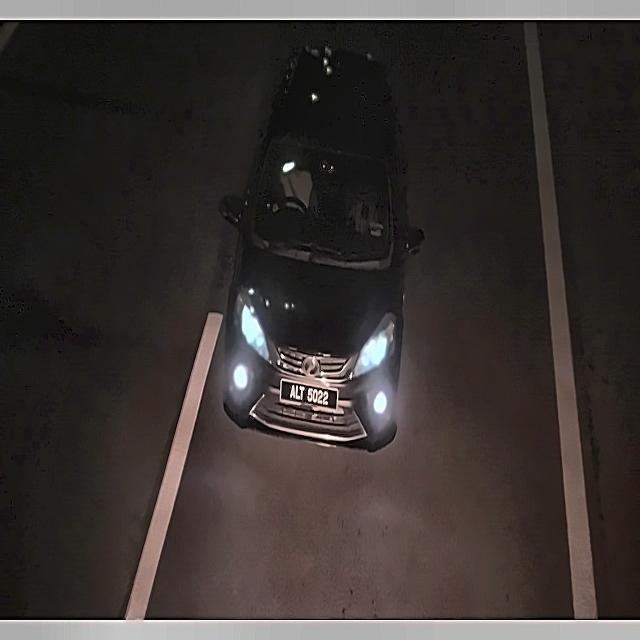car: (276, 369, 341, 421)
